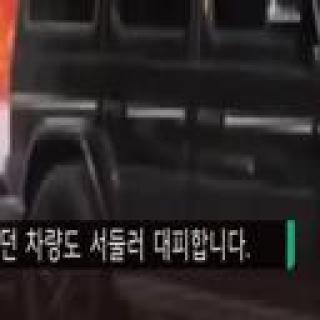fire: (0, 0, 101, 88)
